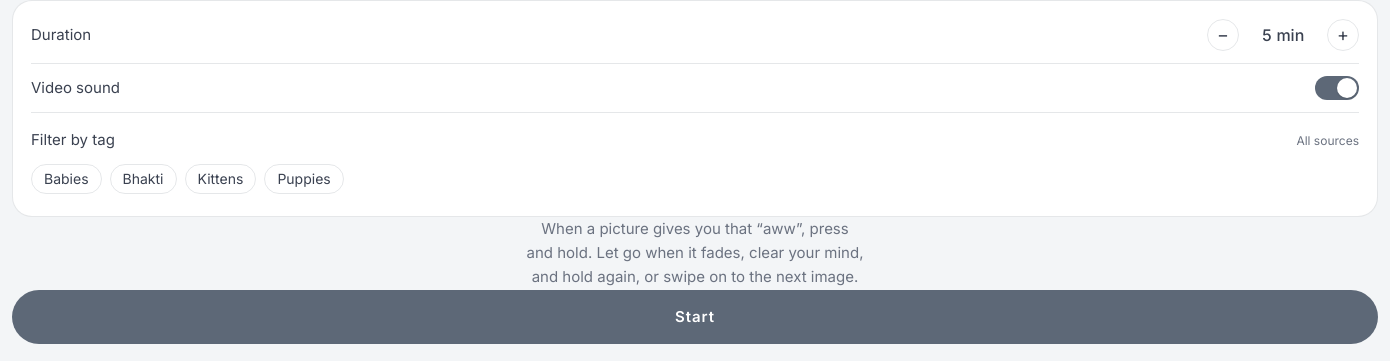
Scenario: PracticeScreen video sound › goes inert when the tag filter excludes every video
Expected: the switch named "Video sound" is enabled, x1=1315 y1=76 x2=1359 y2=100
Click the button "Babies": (66, 178) x1=31 y1=164 x2=102 y2=194
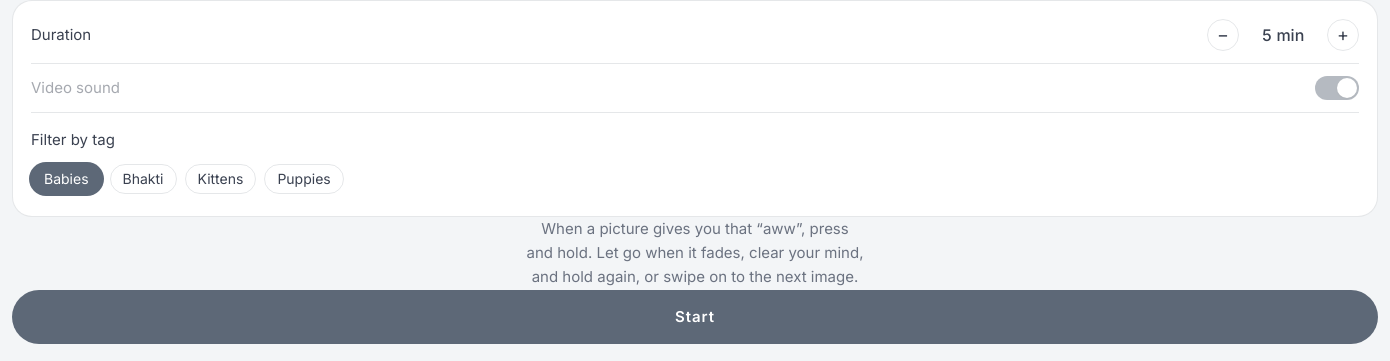
Expected: the switch named "Video sound" is disabled, x1=1315 y1=76 x2=1359 y2=100
